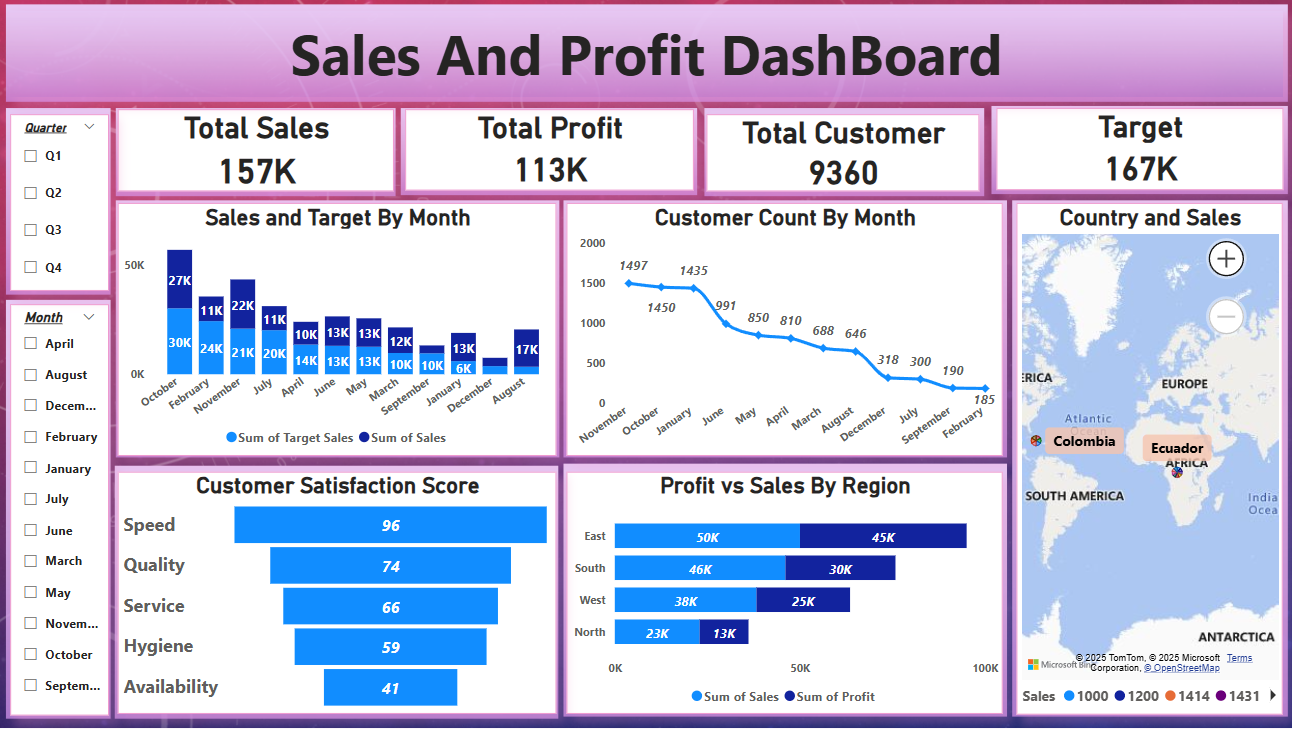

The dashboard page shown, as its layout file describes it:
{"tool":"powerbi","page":{"name":"Page 1","canvas":[1280,720],"ordinal":0},"visuals":[{"type":"card","title":"Total Sales","fields":{"Values":["Sum(Data.Sales)"]},"box":[129,112.2,266.5,79.6],"z":0},{"type":"card","title":"Total Profit","fields":{"Values":["Sum(Data.Profit)"]},"box":[406.4,112.2,278.6,78.4],"z":1000},{"type":"card","title":"Total Customer","fields":{"Values":["Sum(Data.No of Customers)"]},"box":[697.1,117,262.9,74.8],"z":2000},{"type":"card","title":"Target","fields":{"Values":["Sum(Data.Target Sales)"]},"box":[977,111,277,79],"z":3000},{"type":"slicer","fields":{"Values":["Data.Month"]},"box":[25.3,300.3,95.3,396.8],"z":4000},{"type":"slicer","fields":{"Values":["Data.Quarter"]},"box":[25.3,117,95.3,170.1],"z":5000},{"type":"columnChart","title":"Sales and Target By Month","fields":{"Y":["Sum(Data.Target Sales)","Sum(Data.Sales)"],"Category":["Data.Month"]},"box":[129,202.6,423.3,243.6],"z":6000},{"type":"lineChart","title":"Customer Count By Month","fields":{"Category":["Data.Month"],"Y":["Sum(Data.No of Customers)"]},"box":[562,202.6,420.9,243.6],"z":7000},{"type":"barChart","title":"Profit vs Sales By Region","fields":{"Category":["Data.Region"],"Y":["Sum(Data.Sales)","Sum(Data.Profit)"]},"box":[562,461.9,421,234],"z":8000},{"type":"funnel","title":"Customer Satisfaction Score","fields":{"Category":["Data.Customer Satisfaction"],"Y":["Sum(Data.Score)"]},"box":[129,461.9,423.3,234],"z":9000},{"type":"map","fields":{"Category":["Data.Country"],"Series":["Data.Sales"]},"box":[996.2,202.6,256.9,493.3],"z":10000},{"type":"textbox","box":[25.3,16.9,1227.7,83.2],"z":11000}]}

Visuals, with their boxes in screenshot pixels (x1, y1, x2, y2), scaled from the page's 1280x720 canvas onto the 1292x729 screenshot:
"Total Sales" card: [left=130, top=114, right=399, bottom=194]
"Total Profit" card: [left=410, top=114, right=691, bottom=193]
"Total Customer" card: [left=704, top=118, right=969, bottom=194]
"Target" card: [left=986, top=112, right=1266, bottom=192]
slicer - Data.Month: [left=26, top=304, right=122, bottom=706]
slicer - Data.Quarter: [left=26, top=118, right=122, bottom=291]
"Sales and Target By Month" columnChart: [left=130, top=205, right=557, bottom=452]
"Customer Count By Month" lineChart: [left=567, top=205, right=992, bottom=452]
"Profit vs Sales By Region" barChart: [left=567, top=468, right=992, bottom=705]
"Customer Satisfaction Score" funnel: [left=130, top=468, right=557, bottom=705]
map - Data.Country x Data.Sales: [left=1006, top=205, right=1265, bottom=705]
textbox: [left=26, top=17, right=1265, bottom=101]
